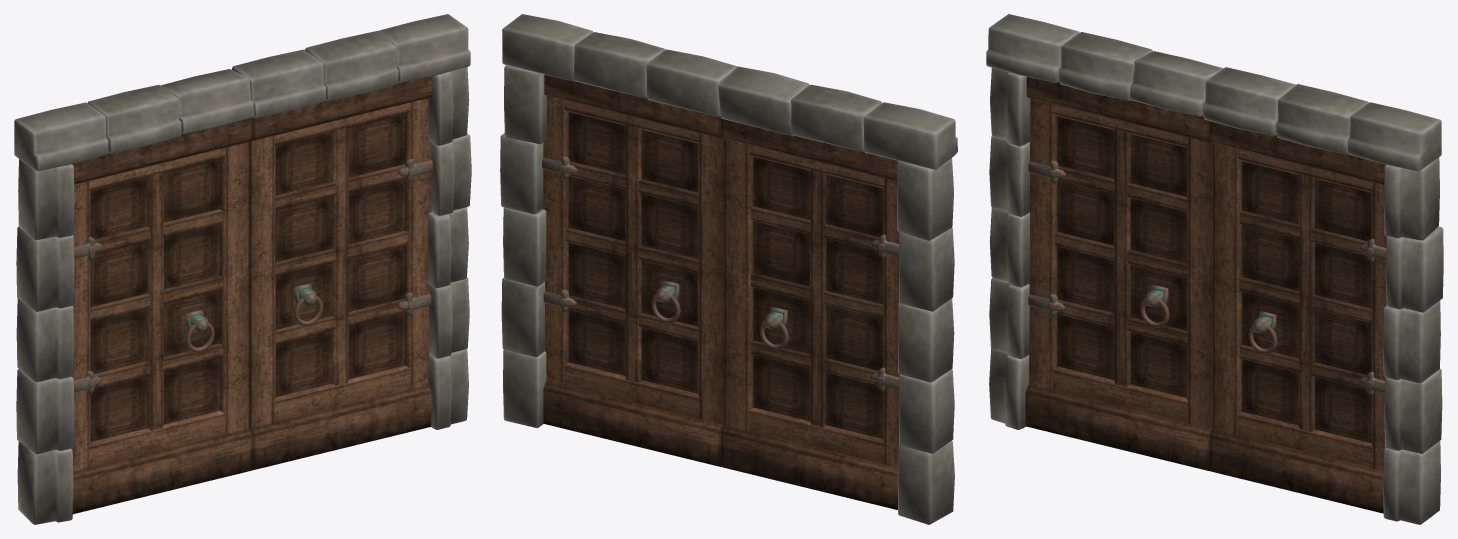
The model's file is t2_door_ornamented_wooden_double.glb.
The picture shows the model from 3 angles, left to right: view 1: azimuth 30°, elevation 25°; view 2: azimuth 150°, elevation 25°; view 3: azimuth 330°, elevation 25°; orthographic projection.
Visible parts, largest first — view 1: door_castle_large_02; view 2: door_castle_large_02; view 3: door_castle_large_02.
Boxes of the visible parts, x1,y1,x2,y2 form: door_castle_large_02: (14, 14, 471, 524); door_castle_large_02: (500, 14, 957, 524); door_castle_large_02: (986, 14, 1443, 524).
Bounding box in the file's own units: 4.26 × 3.68 × 0.4772.
Materials: 2 (2 with a texture image).
